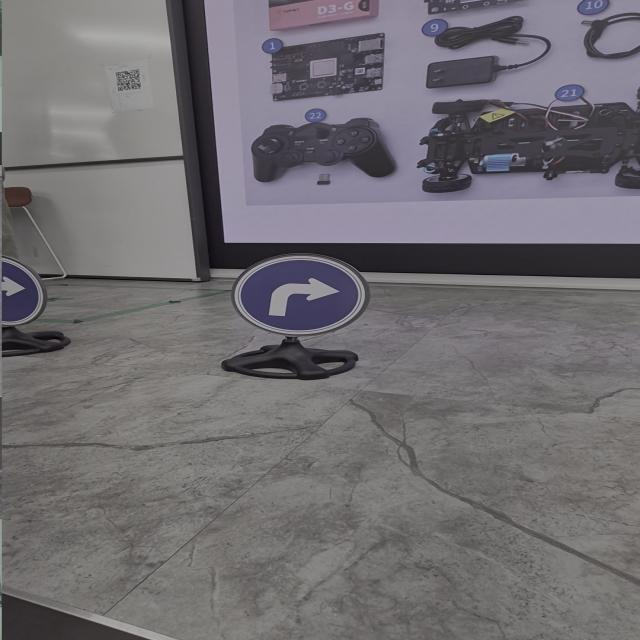right_dierection: (204, 241, 418, 345)
